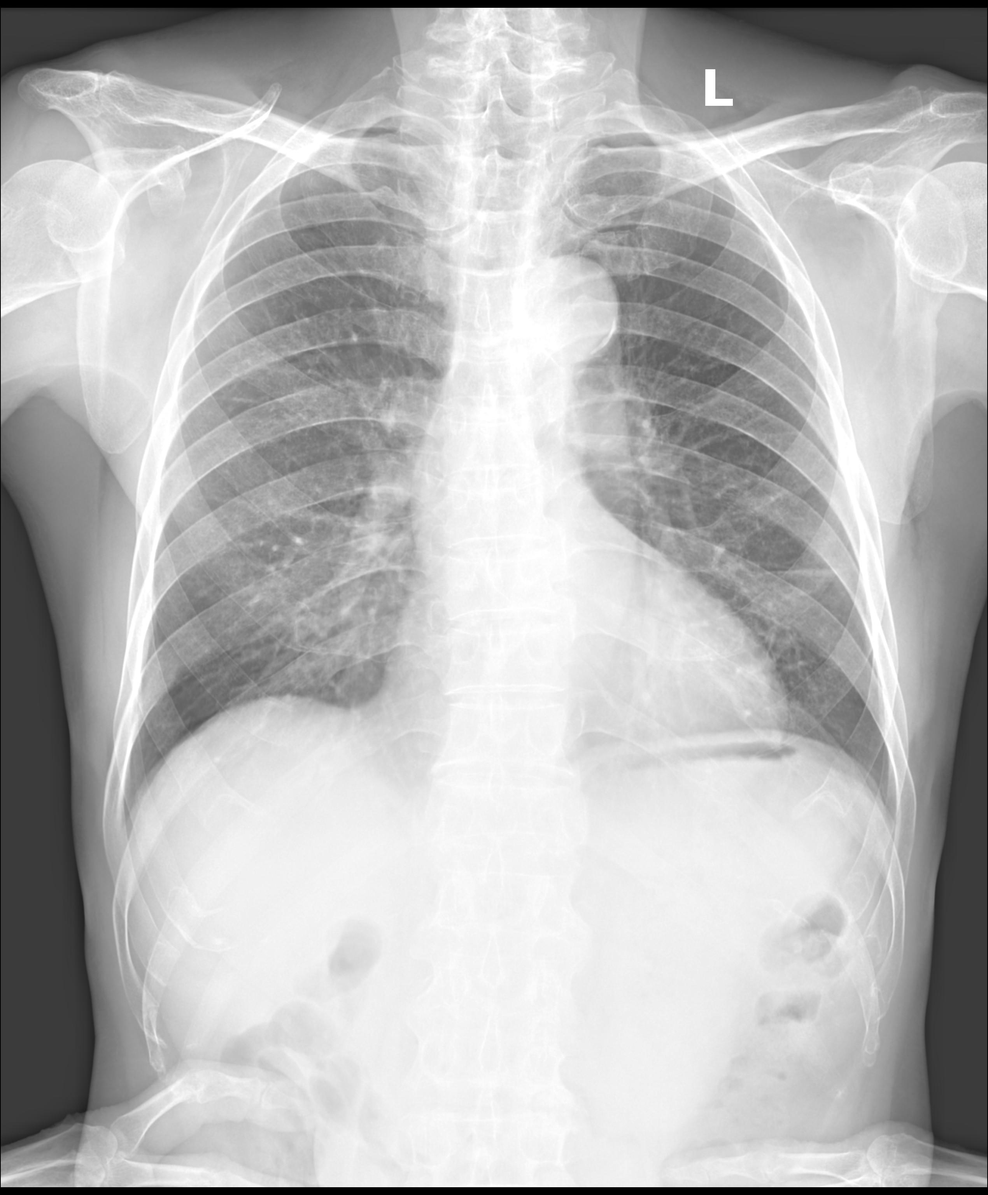Aortic enlargement: (509, 256, 622, 360)
Cardiomegaly: (378, 626, 794, 766)
